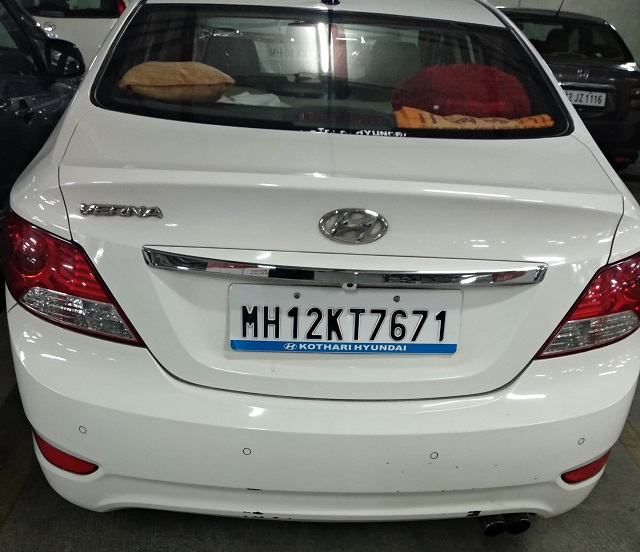licenseplate: (229, 280, 463, 359)
